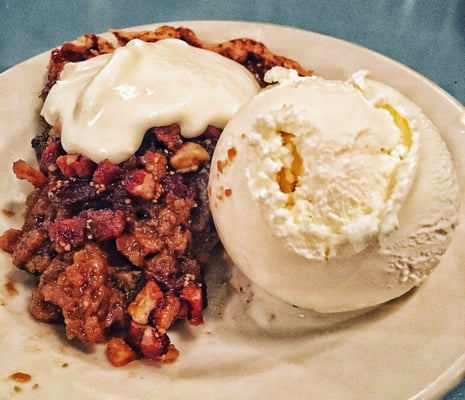soup: (3, 28, 265, 378)
